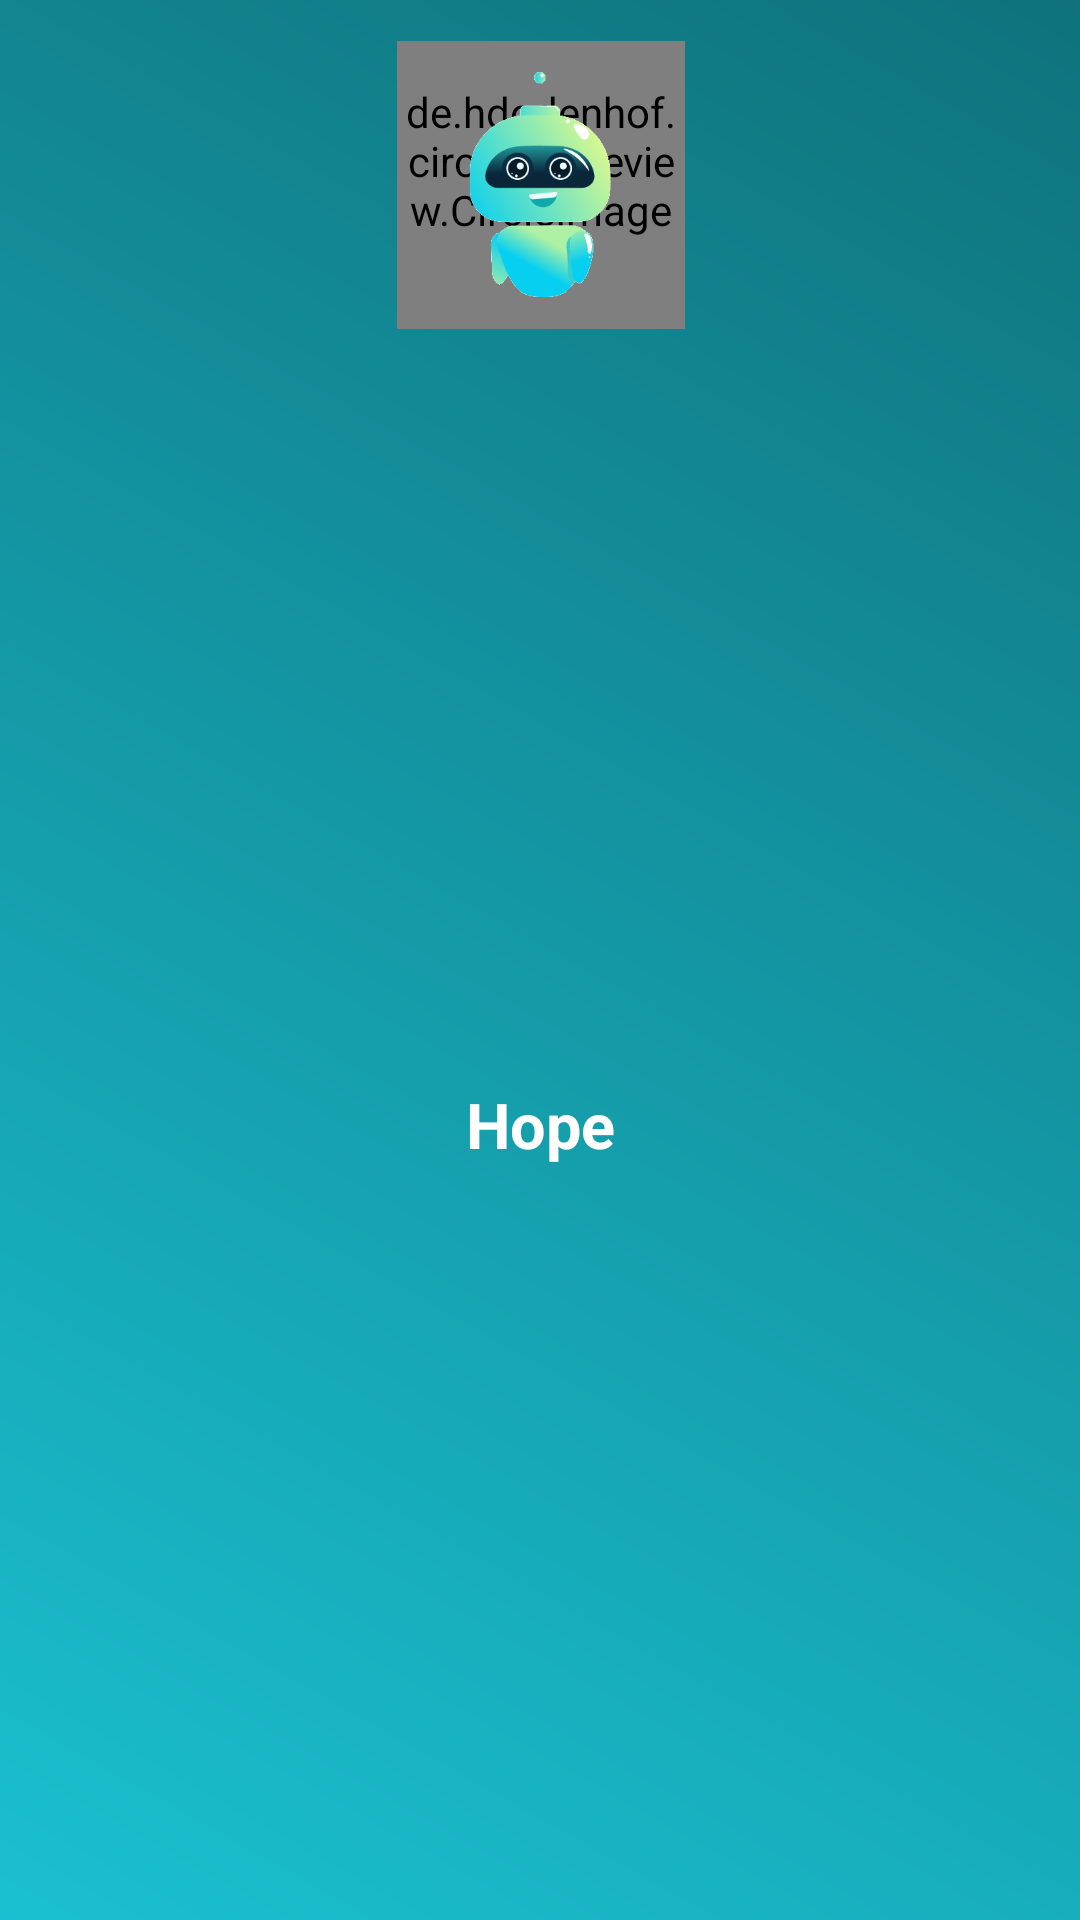

Icon bounding boxes for this 1080 × 1920 phone screenshot, format (x1, y1, x2, y2):
robot: (432, 72, 651, 297)
